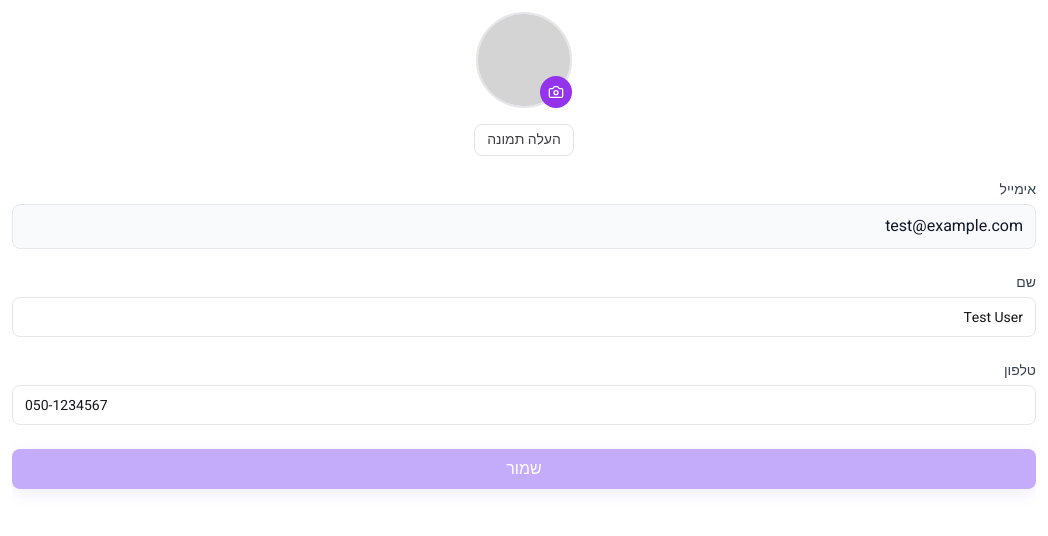
Scenario: ProfileForm › Form Validation › shows error for invalid phone format
The image size is (1048, 536).
Type "12345" into the field labelled "טלפון".
click(524, 405); type("12345")  # box x1=12 y1=385 x2=1036 y2=425
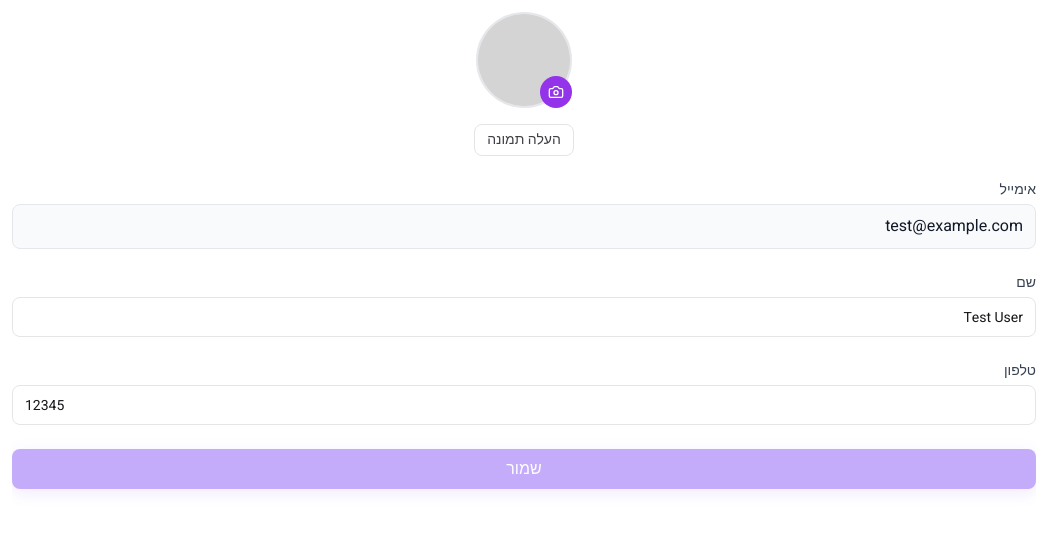
Leave the field labelled "טלפון", box x1=12 y1=385 x2=1036 y2=425
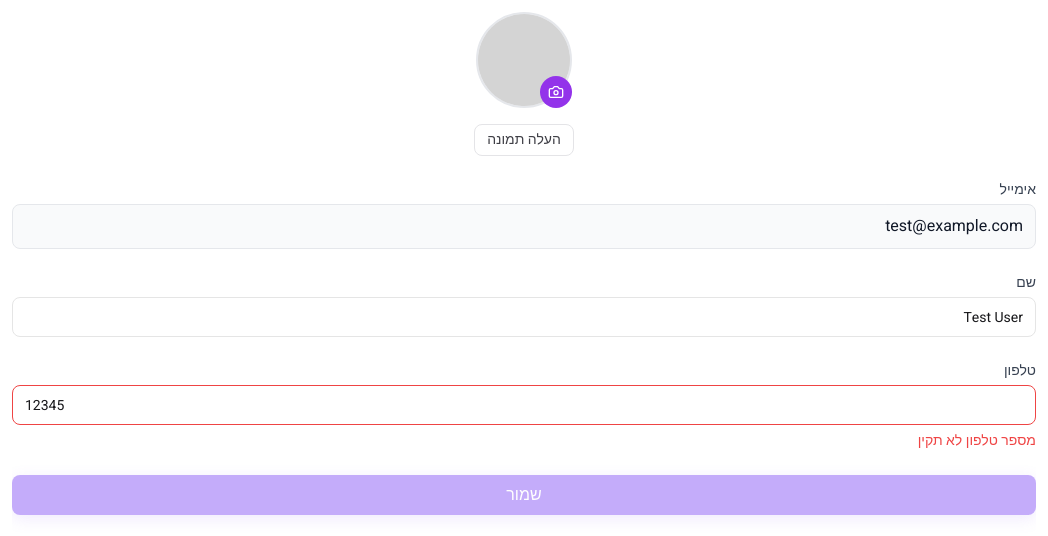
Check: the text "מספר טלפון לא תקין" is shown, box x1=918 y1=430 x2=1036 y2=451
